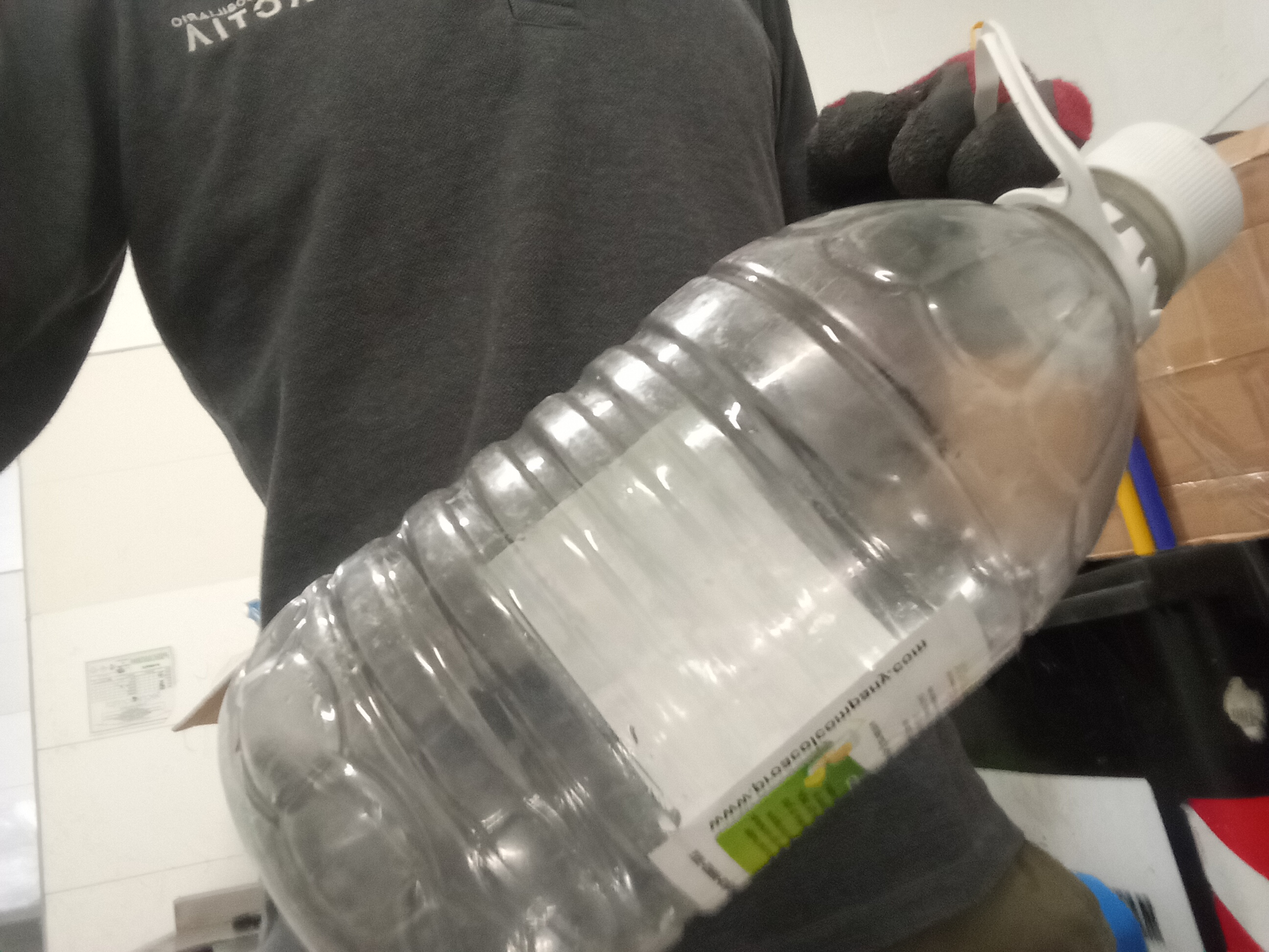Plastico: (218, 125, 1244, 952)
